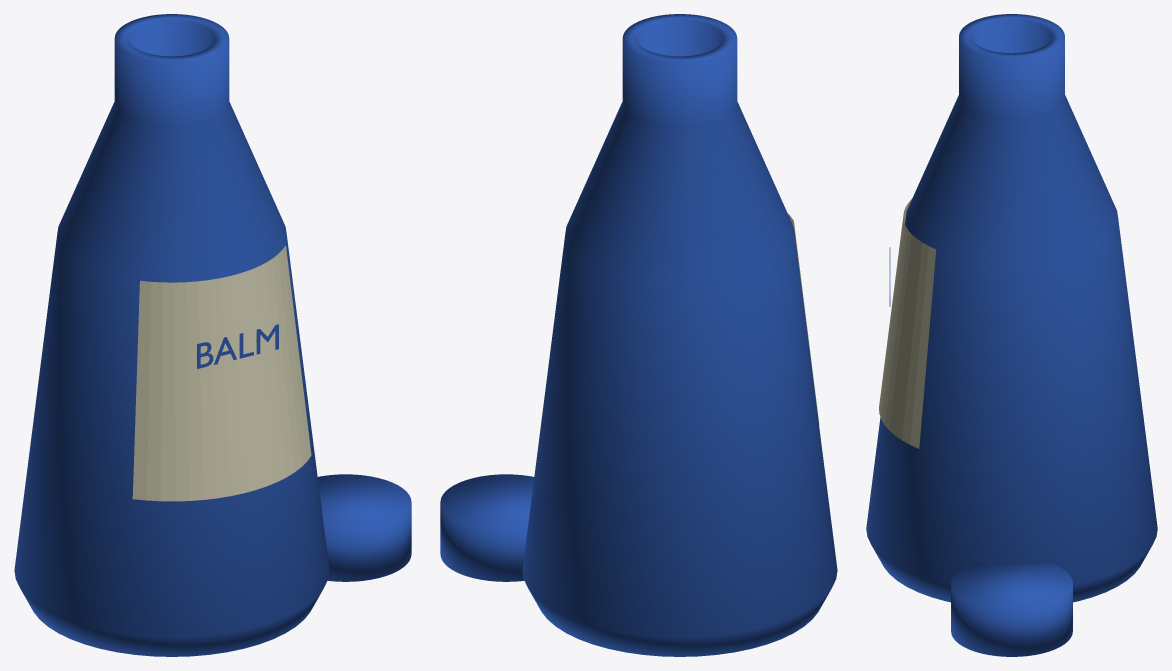
3 renders of one model, left to right at view 1: azimuth 30°, elevation 25°; view 2: azimuth 150°, elevation 25°; view 3: azimuth 270°, elevation 25°, orthographic. The views are drawn at different scales.
Visible parts, largest first — view 1: TI073 / tapered open Star Balm bottle, TI073 / pale tapered balm label, TI073 / detached cap, TI073 / authored balm label; view 2: TI073 / tapered open Star Balm bottle, TI073 / detached cap; view 3: TI073 / tapered open Star Balm bottle, TI073 / detached cap, TI073 / pale tapered balm label.
Boxes of the visible parts, x1=… form: TI073 / tapered open Star Balm bottle: x1=14, y1=14, x2=329, y2=656; TI073 / pale tapered balm label: x1=132, y1=245, x2=311, y2=501; TI073 / detached cap: x1=317, y1=474, x2=411, y2=581; TI073 / authored balm label: x1=197, y1=324, x2=278, y2=368; TI073 / tapered open Star Balm bottle: x1=522, y1=14, x2=837, y2=656; TI073 / detached cap: x1=440, y1=474, x2=534, y2=581; TI073 / tapered open Star Balm bottle: x1=866, y1=14, x2=1157, y2=602; TI073 / detached cap: x1=951, y1=563, x2=1072, y2=656; TI073 / pale tapered balm label: x1=879, y1=198, x2=936, y2=448.
Size of the model in its own units: 1.48 by 2.15 by 1.1.
